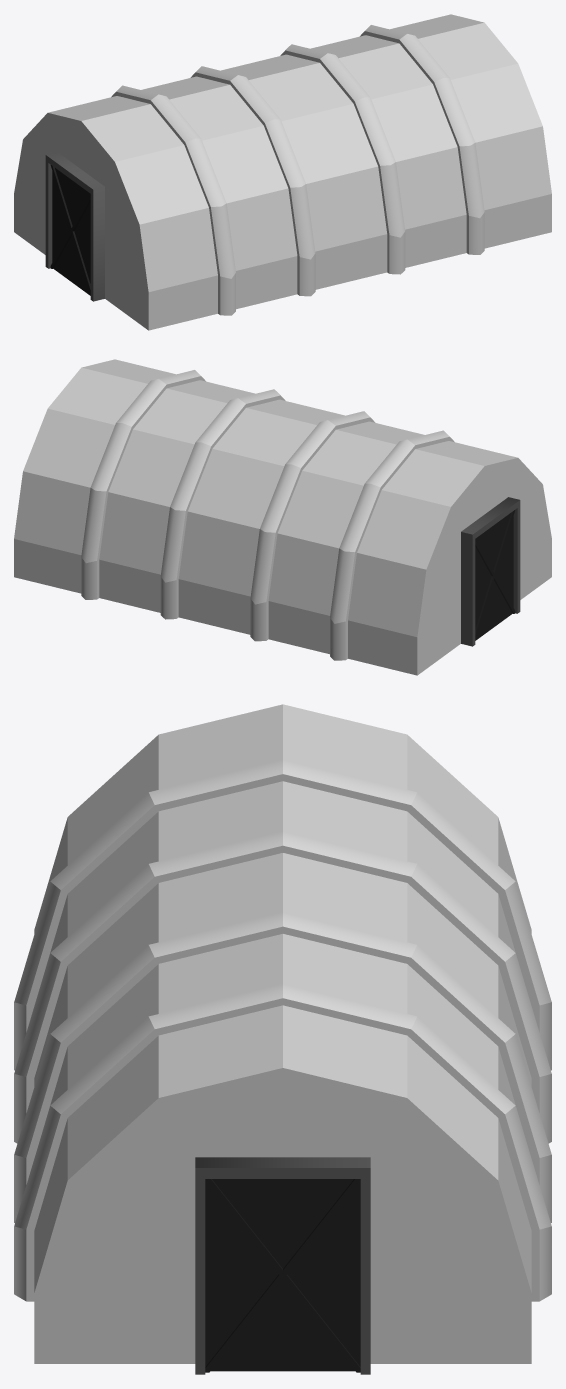
The model's file is labbuilding.fbx.
3 views of the same model, one above another, from view 1: azimuth 30°, elevation 25°; view 2: azimuth 150°, elevation 25°; view 3: azimuth 270°, elevation 25° (orthographic). The views are drawn at different scales.
Parts seen in each view (by area): view 1: Lab_Buidling; view 2: Lab_Buidling; view 3: Lab_Buidling.
Boxes of the visible parts, x1,y1,x2,y2 form: Lab_Buidling: [14, 14, 551, 330]; Lab_Buidling: [14, 359, 551, 675]; Lab_Buidling: [14, 704, 551, 1374].
Bounding box in the file's own units: 3.66 × 1.38 × 2.16.
